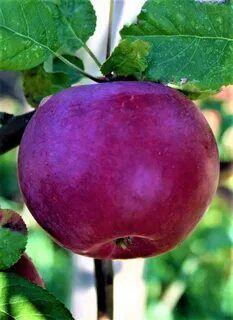Apple: (16, 82, 220, 256)
